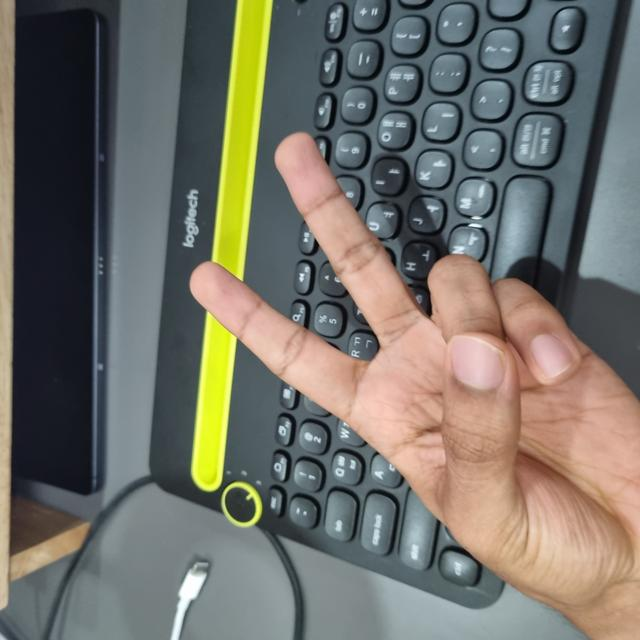Scissors: (36, 190, 503, 639)
